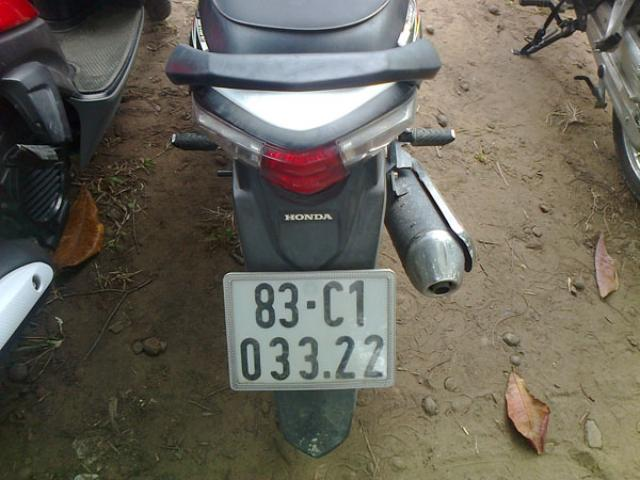plate: (222, 272, 402, 392)
